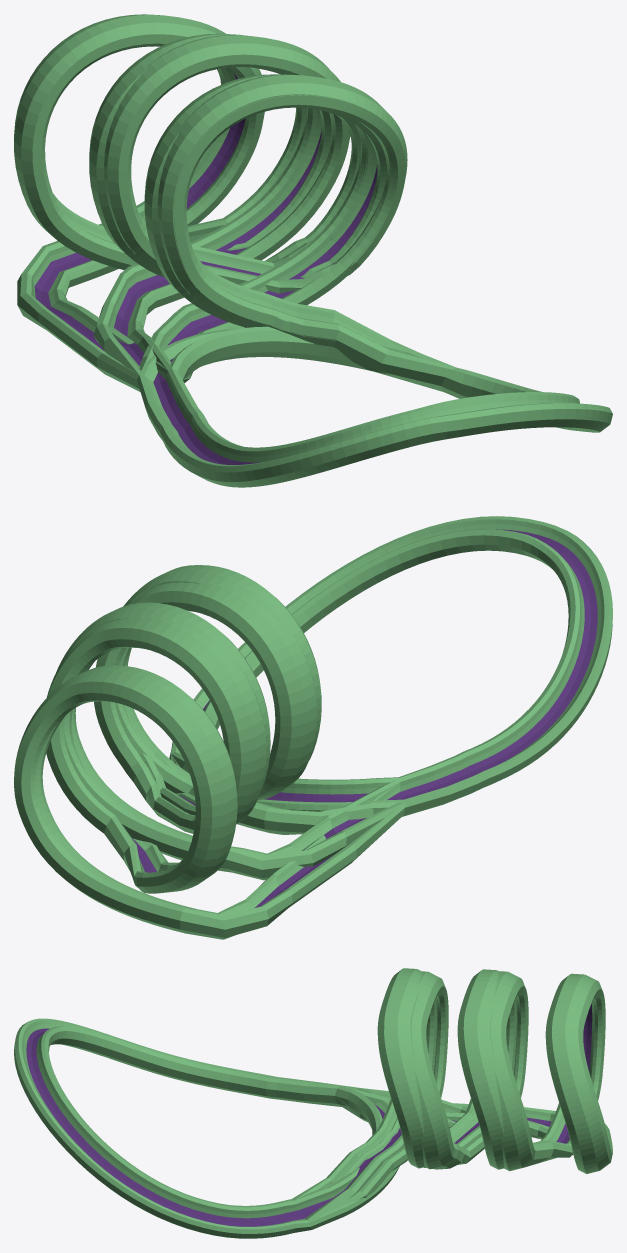
File: level4 (1).fbx
The picture shows the model from 3 angles, top to bottom: view 1: azimuth 30°, elevation 25°; view 2: azimuth 150°, elevation 25°; view 3: azimuth 270°, elevation 25°; orthographic projection. The views are drawn at different scales.
Visible parts, largest first — view 1: level4upgrade3, level4upgrade2, level4upgrade1, level4basae, level4.degradacija; view 2: level4upgrade3, level4basae, level4upgrade2, level4upgrade1, level4.degradacija; view 3: level4upgrade3, level4basae, level4upgrade2, level4upgrade1, level4.degradacija.
Boxes of the visible parts, box(x1,y1,x2,y2) form: level4upgrade3: box(14, 14, 438, 391); level4upgrade2: box(93, 35, 443, 391); level4upgrade1: box(139, 74, 455, 385); level4basae: box(137, 367, 612, 487); level4.degradacija: box(139, 326, 455, 382); level4upgrade3: box(14, 582, 404, 939); level4basae: box(169, 516, 612, 816); level4upgrade2: box(56, 596, 404, 880); level4upgrade1: box(115, 565, 402, 834); level4.degradacija: box(169, 754, 404, 811); level4upgrade3: box(310, 971, 612, 1221); level4basae: box(14, 1018, 359, 1238); level4upgrade2: box(312, 969, 516, 1220); level4upgrade1: box(292, 968, 435, 1222); level4.degradacija: box(294, 1086, 399, 1229).
Bounding box in the file's own units: 691 × 503 × 1288.
